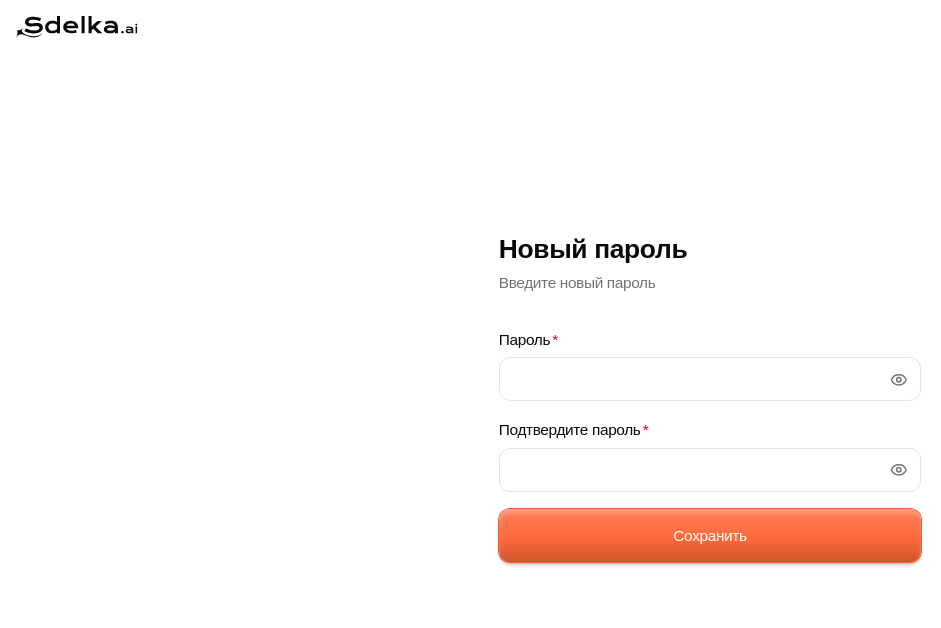
Test: ResetPasswordPage › on invalid_or_expired_link: surfaces translated banner with link to /forgot-password
Step 1. Type "newSecure1" into the password field labelled "Пароль" → (710, 379), box [499,357,921,401]
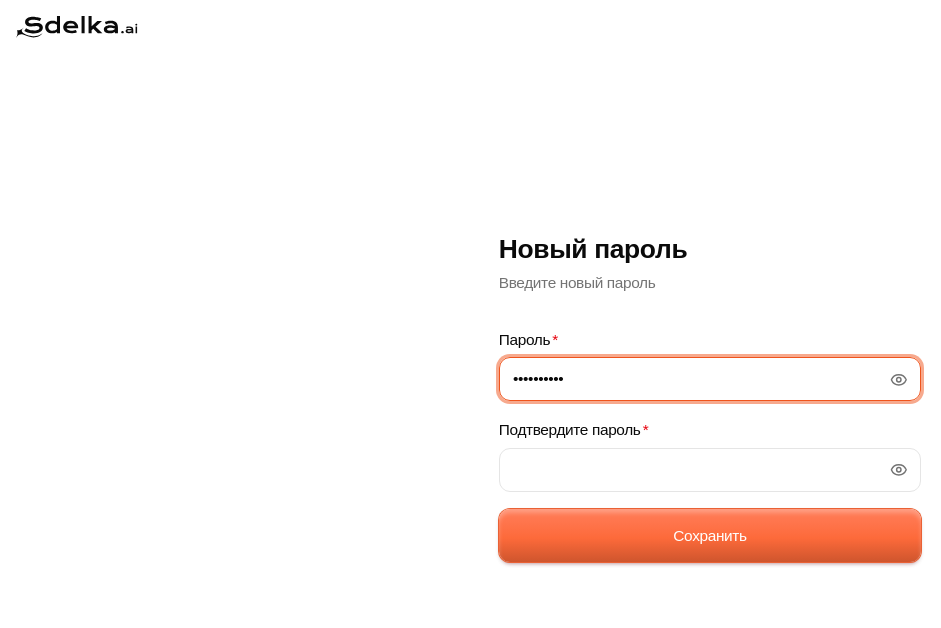
Step 2. Type "newSecure1" into the password field labelled "Подтвердите пароль" → (710, 470), box [499,448,921,492]
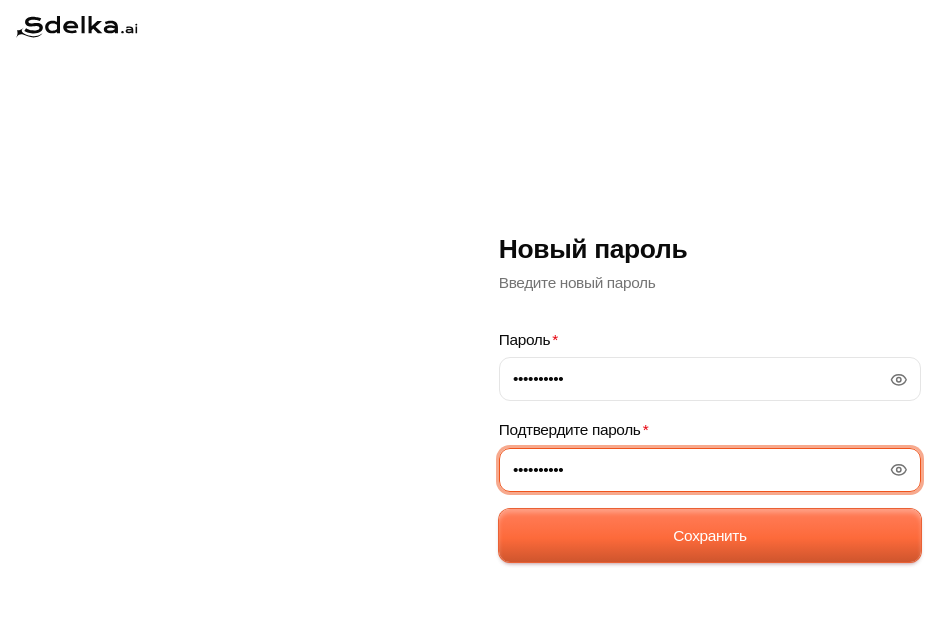
Step 3. Click the button "Сохранить" → (710, 536), box [499,509,921,562]
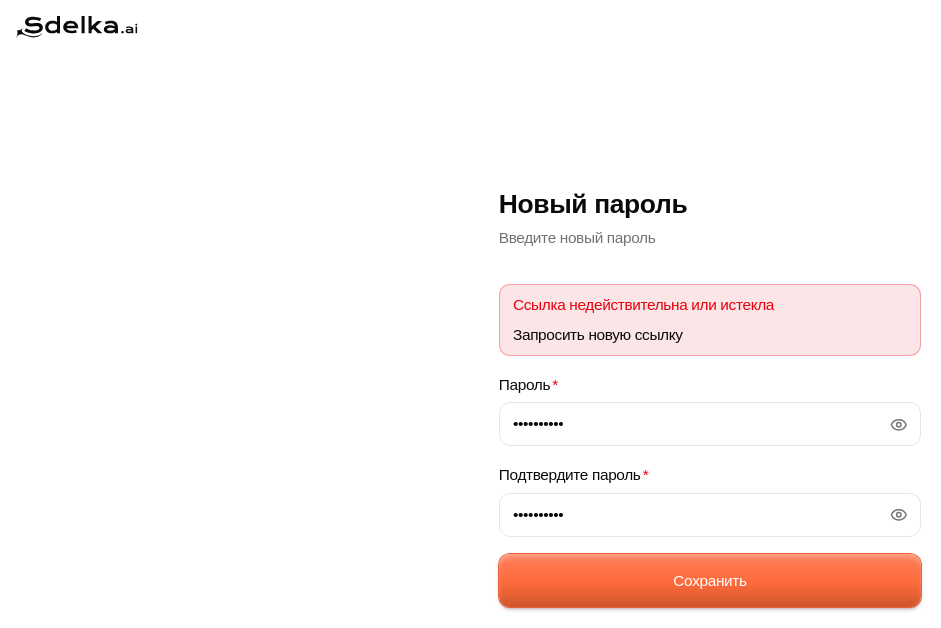
Result: the text "Ссылка недействительна или истекла" is shown at [513,296,774,313]
